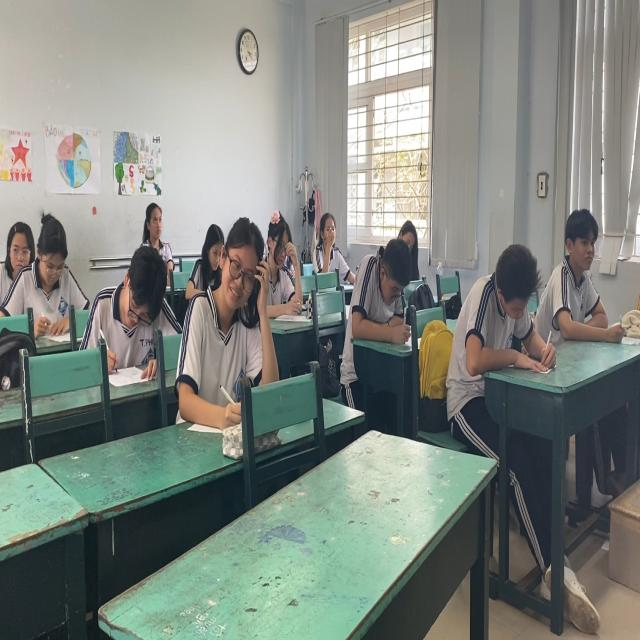not_cheating: (191, 205, 271, 378), (449, 243, 552, 360), (93, 240, 176, 384), (7, 194, 85, 329), (548, 197, 618, 329), (350, 222, 416, 347), (260, 199, 304, 319), (307, 208, 353, 274), (138, 194, 164, 256)
